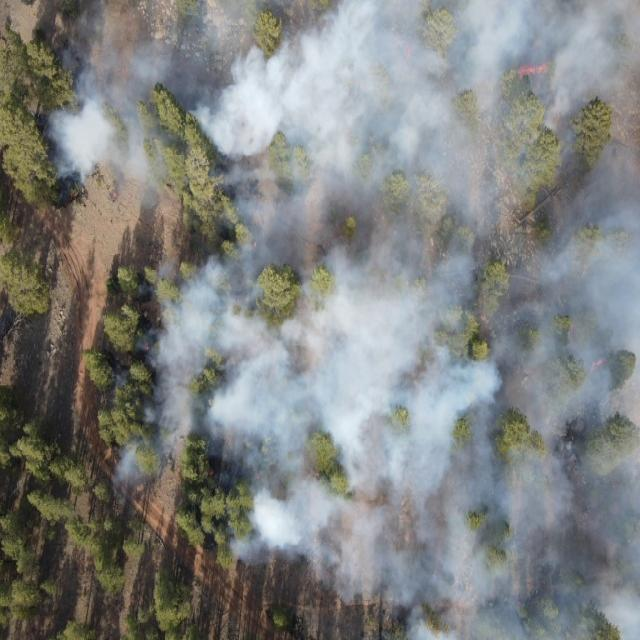fire: (589, 355, 607, 373), (569, 320, 578, 340), (312, 470, 322, 480), (252, 239, 258, 249), (144, 343, 150, 352)
smoke: (360, 186, 640, 640), (43, 0, 640, 186), (224, 186, 361, 568), (139, 253, 225, 462), (316, 568, 360, 604), (112, 442, 140, 489), (516, 62, 554, 78), (105, 364, 132, 386), (138, 460, 158, 486)
